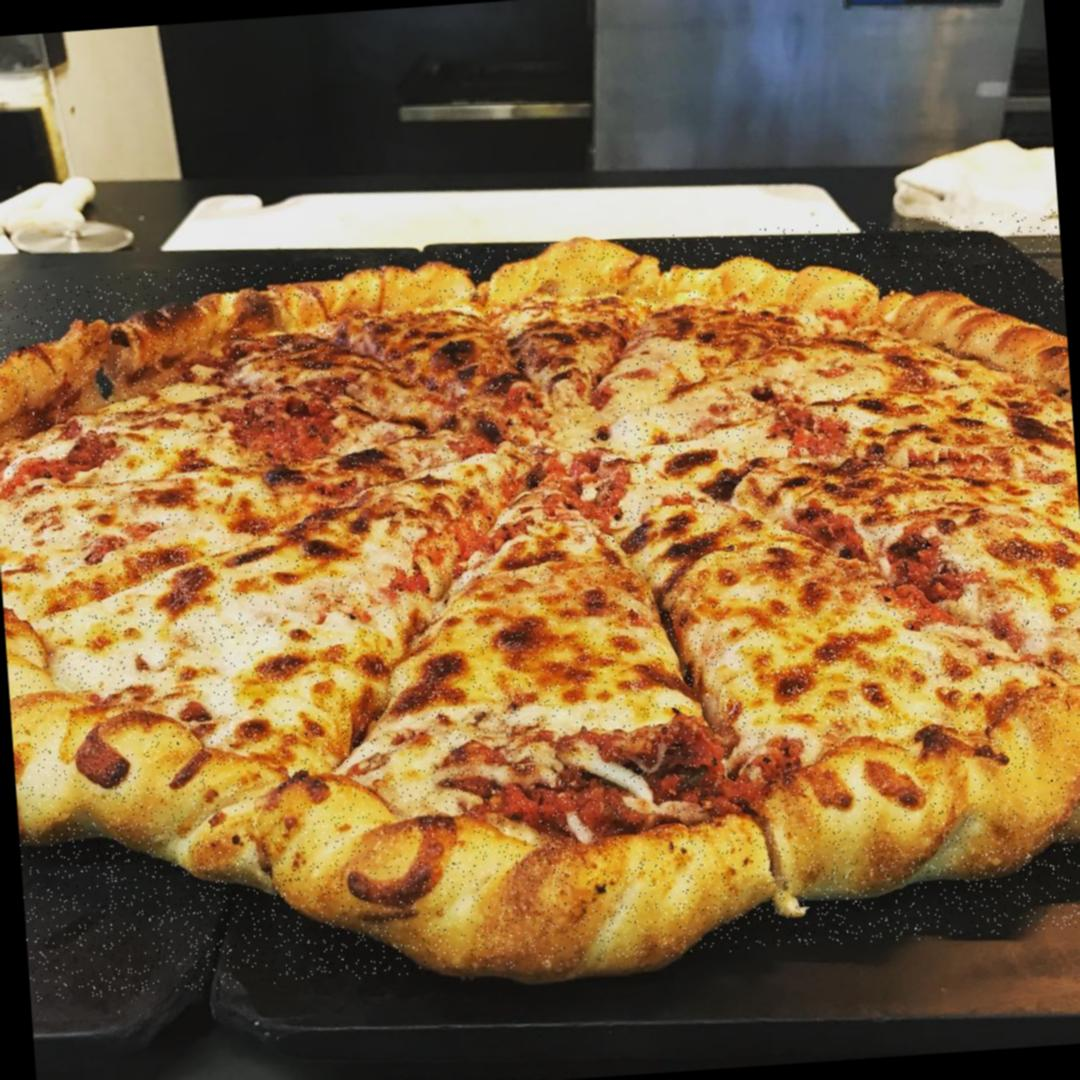Pizza: (0, 208, 1080, 1002)
